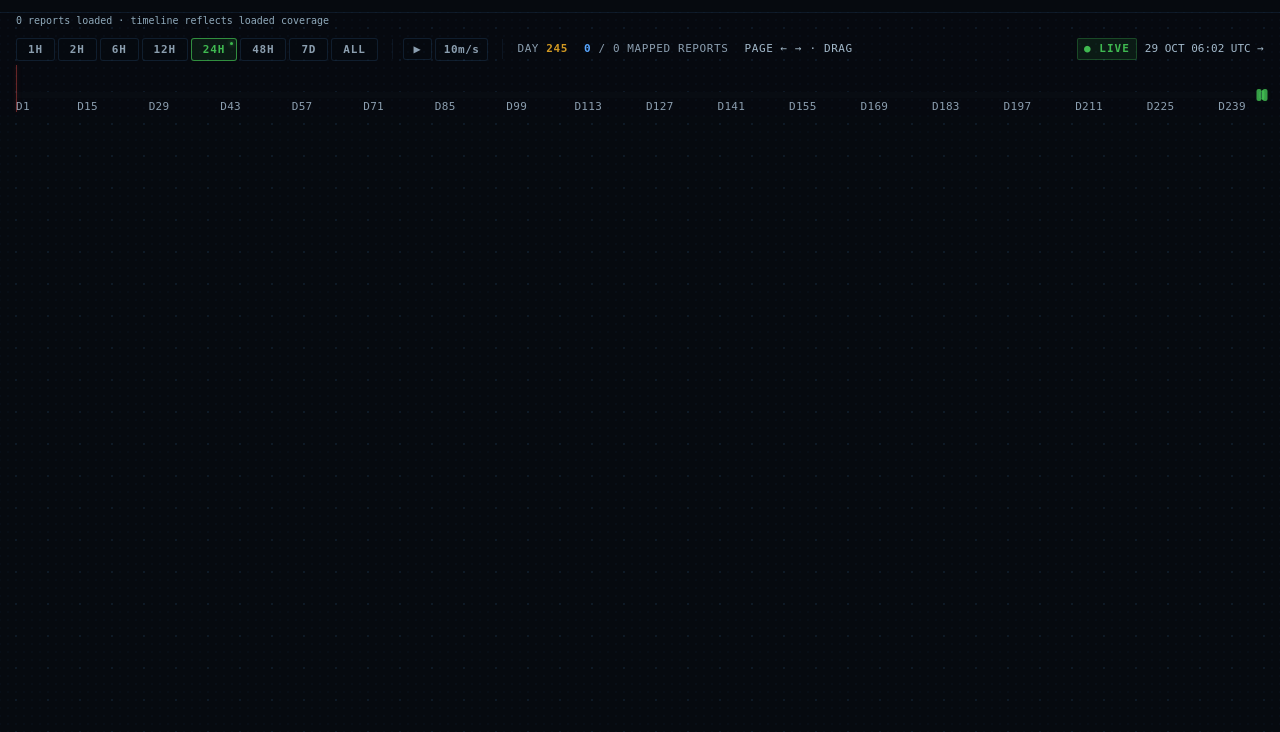
Test: report timeline state › respects foreground modals even with body focus, but not a hidden native attribution dialog
Click the element with class "timeline-stats": x=685, y=48 [517, 42, 853, 55]
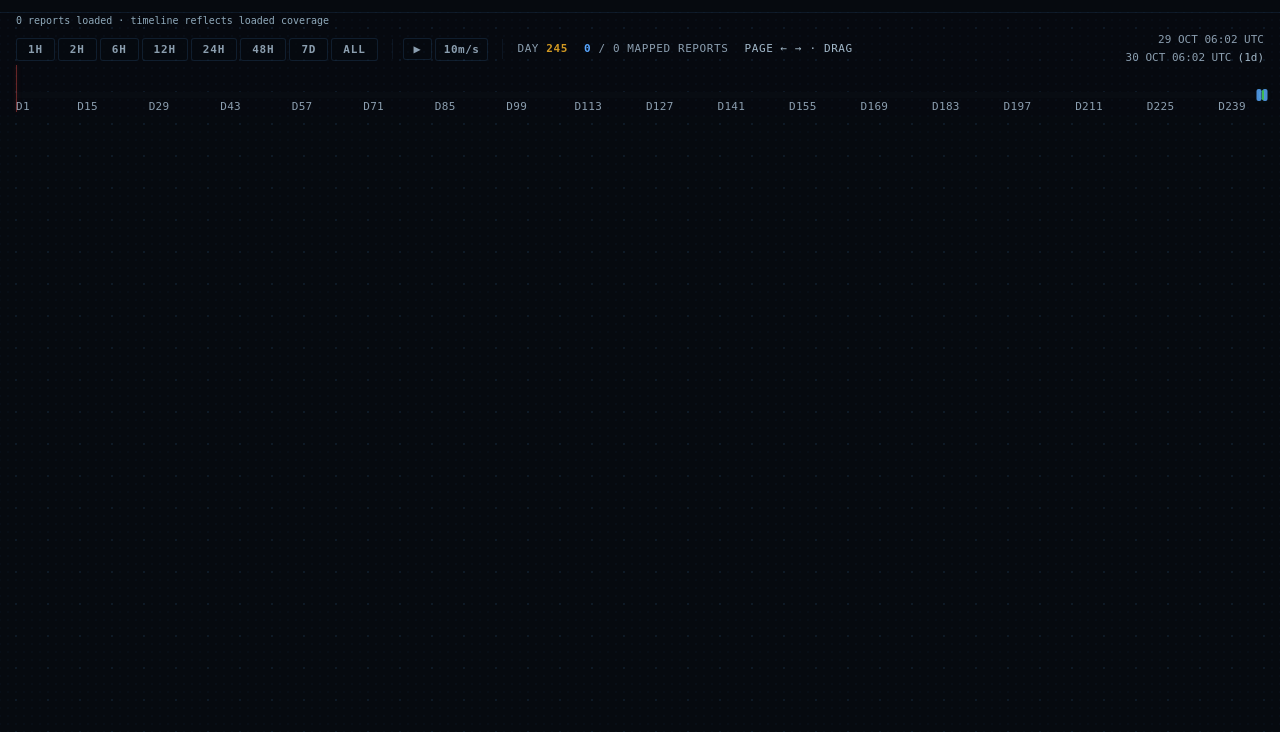
Result: the text "● LIVE" is gone
